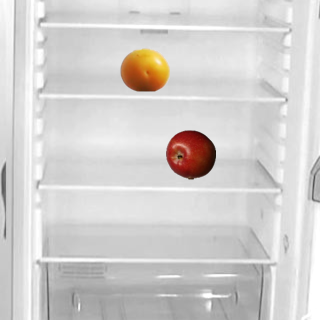Apple Braeburn: (165, 129, 215, 179)
Cherry Wax Yellow: (119, 44, 169, 94)
